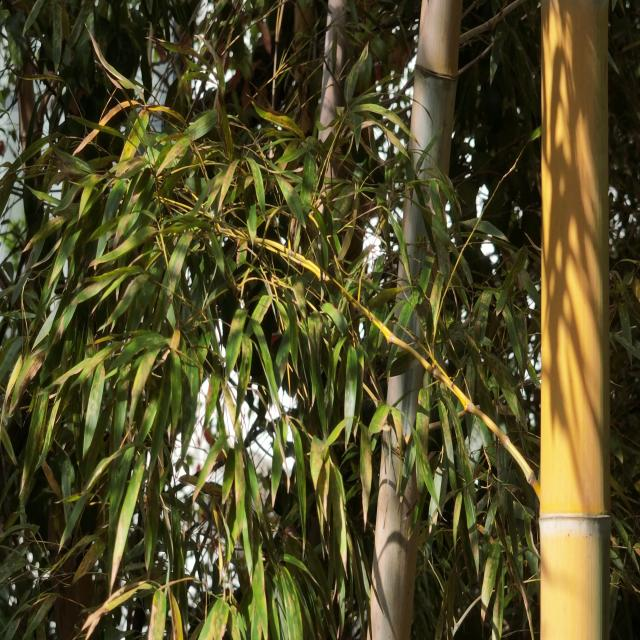Bamboo-shoots: (540, 0, 612, 640)
